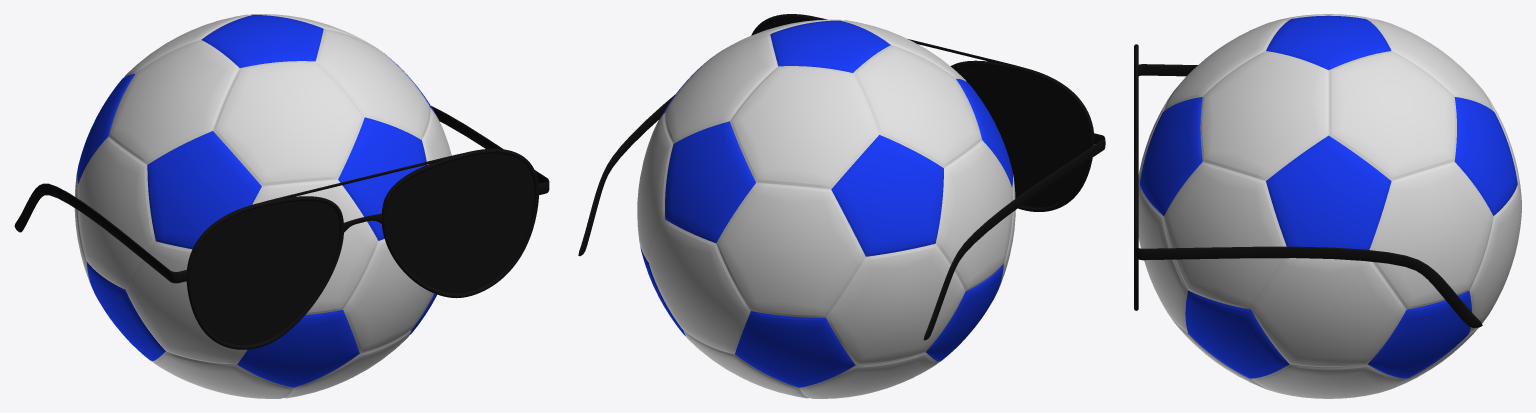
Rendered from Balonuru.glb.
3 renders of one model, left to right at view 1: azimuth 30°, elevation 25°; view 2: azimuth 150°, elevation 25°; view 3: azimuth 270°, elevation 25°, orthographic.
Parts seen in each view (by area): view 1: Esfera geodésica, Círculo Bezier, Círculo Bezier.001, Cubo.002, Cubo.003, Cubo.001; view 2: Esfera geodésica, Círculo Bezier, Cubo.002, Cubo.003, Círculo Bezier.001; view 3: Esfera geodésica, Cubo.003, Círculo Bezier.001, Cubo.002, Círculo Bezier.
Boxes of the visible parts, x1,y1,x2,y2 form: Esfera geodésica: (74,14,451,398); Círculo Bezier: (186,196,343,349); Círculo Bezier.001: (381,148,538,298); Cubo.002: (14,183,187,283); Cubo.003: (431,106,549,195); Cubo.001: (252,151,473,205); Esfera geodésica: (637,19,1015,398); Círculo Bezier: (950,60,1094,211); Cubo.002: (923,133,1105,340); Cubo.003: (578,95,674,256); Círculo Bezier.001: (751,14,823,35); Esfera geodésica: (1138,14,1521,398); Cubo.003: (1135,243,1482,327); Círculo Bezier.001: (1134,137,1138,310); Cubo.002: (1138,64,1197,76); Círculo Bezier: (1134,44,1138,138).
Size of the model in its own units: 2 by 1.75 by 1.76.
